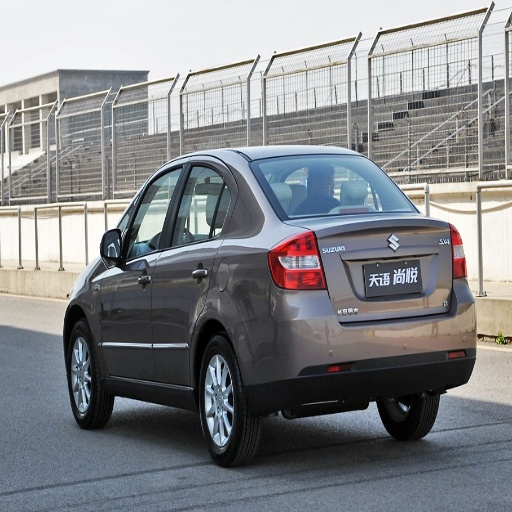back_bumper: (238, 281, 477, 409)
back_glass: (252, 156, 413, 219)
back_left_door: (152, 157, 231, 383)
